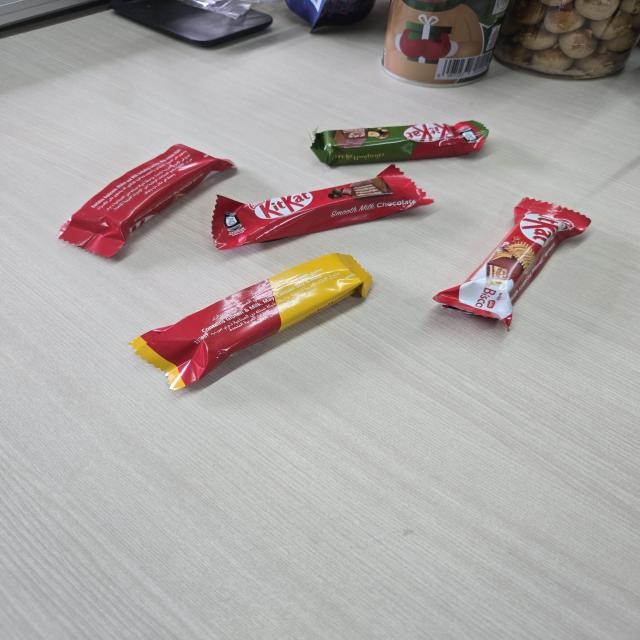chocolate-bar: (130, 250, 378, 396), (53, 138, 238, 264), (432, 195, 596, 331), (212, 160, 440, 255), (308, 118, 490, 168)
